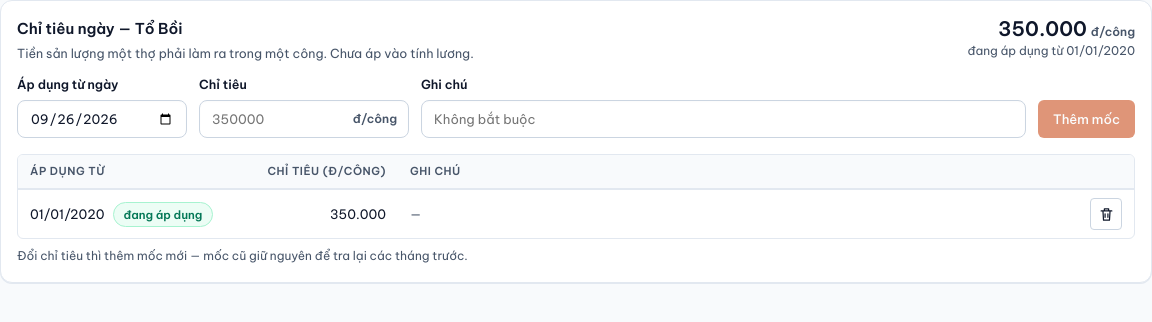
Test: ChiTieuNgayEditor › ⭐ gõ trùng ngày mốc cũ ⇒ nút thành 'Sửa mốc'; lưu gửi đúng payload rồi cập nhật thẻ
Check: the text "đang áp dụng từ 01/01/2020" is shown, box [968,42,1135,61]
In the date field labelled "Áp dụng từ ngày": (102, 119) [17,100,187,138], type "2020-01-01"
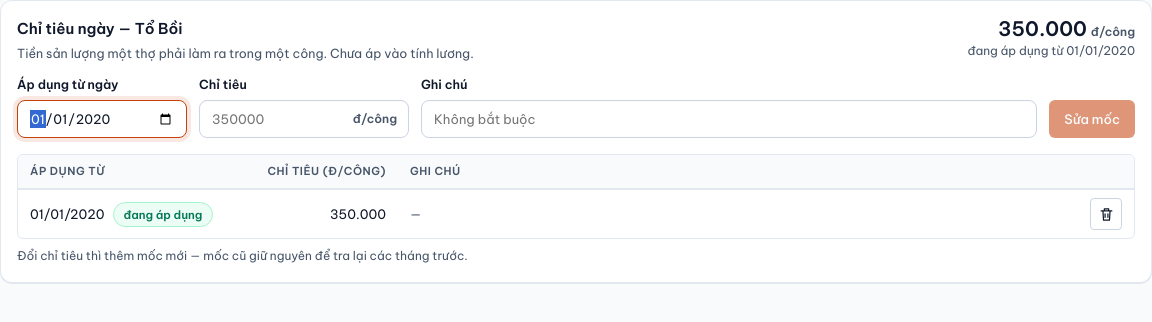
Check: the text "đã có mốc 350.000 đ/công" is not shown
Check: the button "Sửa mốc" is shown, box [1049,100,1135,138]
In the number field with placeholder "350000": (304, 119) [199,100,409,138], type "360000"
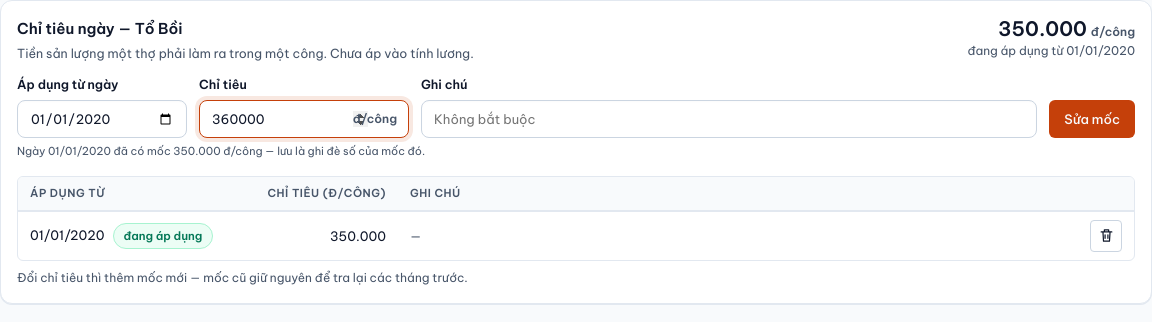
Check: the text "đã có mốc 350.000 đ/công" is shown, box [17,144,425,158]
In the field with placeholder "Không bắt buộc": (729, 119) [421,100,1037,138], type "  gõ nhầm  "
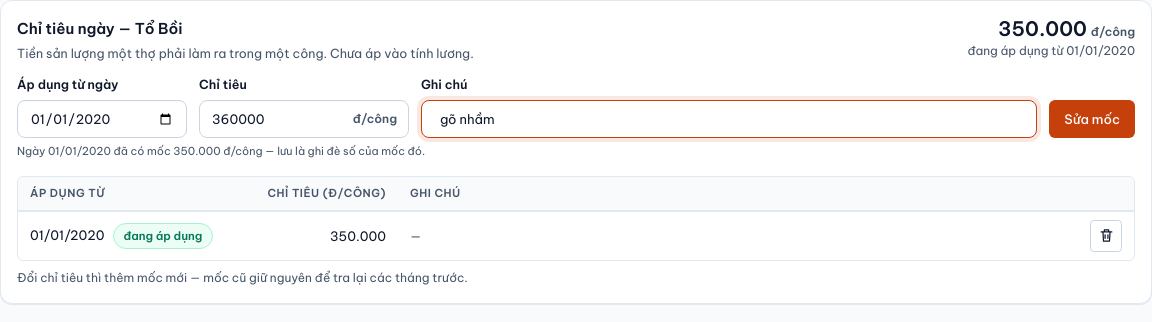
Click the button "Sửa mốc": (1092, 119) [1049,100,1135,138]
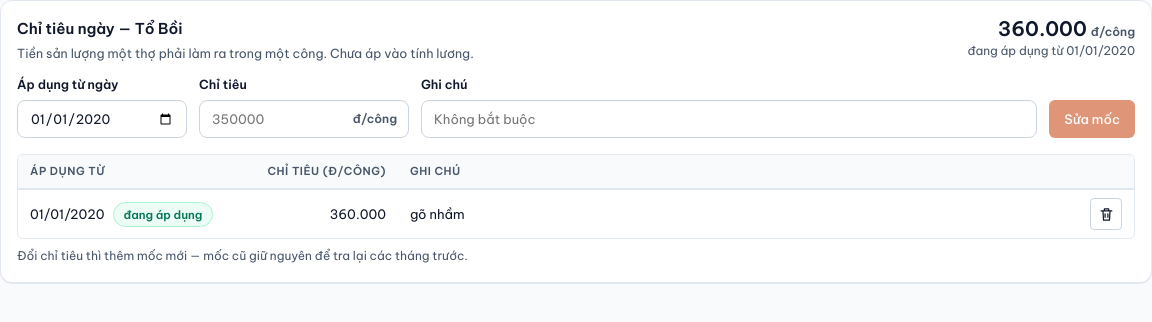
Check: the element with class "cl-chitieu__now-val" reads "360.000đ/công", box [998,16,1135,41]
Check: the text "gõ nhầm" is shown, box [398,189,1078,238]
